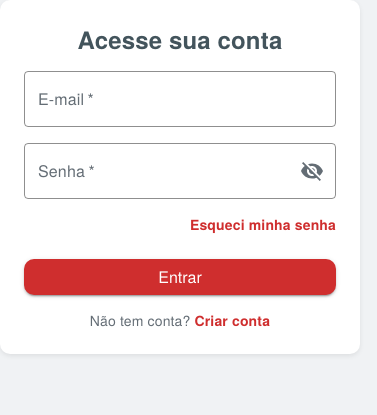
LandingLoginCard › should reject a malformed email naming the domain
This screenshot has width=377, height=415.
Step 1. Type "nao-e-email" into the field labelled "E-mail *" → (180, 99), box [24, 71, 336, 127]
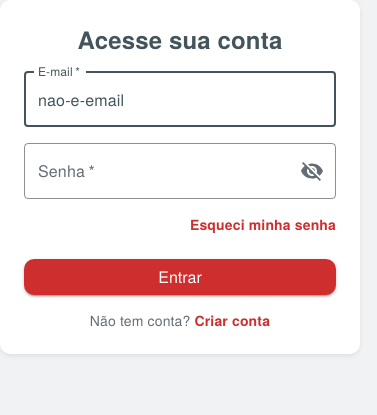
Step 2. Type "segredo123" into the password field labelled "Senha *" → (154, 171), box [24, 143, 284, 199]
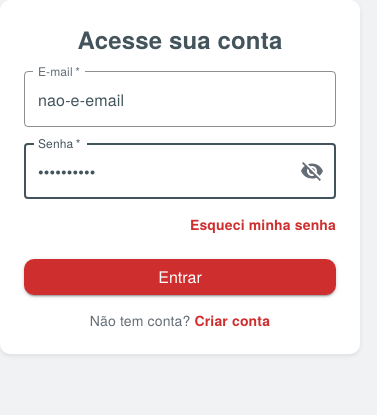
Step 3. Click the button "Entrar" → click(180, 277), box [24, 259, 336, 295]
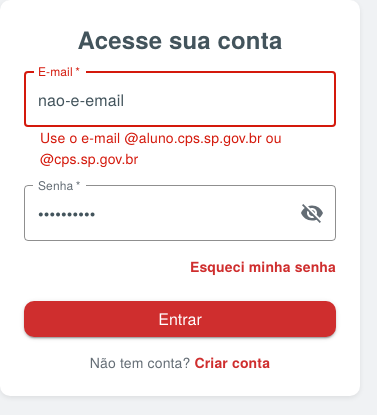
Check: the text "Use o e-mail @aluno.cps.sp.gov.br ou @cps.sp.gov.br" is shown, box [40, 127, 320, 169]
